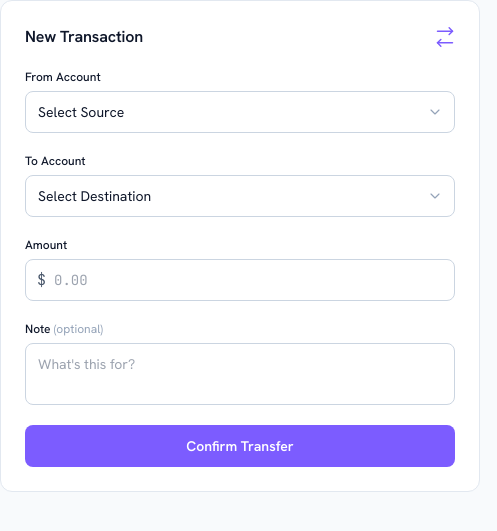
Test: TransferForm › shows an insufficient-balance error without submitting
Select "Everyday Checking (•••• 2233) — $1,000.00 available" in the dropdown with id "from" at (240, 112), box [25,91,455,133]
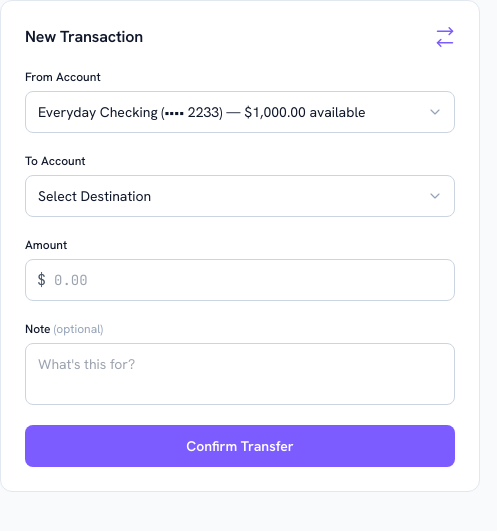
Select "Savings (•••• 5566)" in the dropdown labelled "To Account" at (240, 196), box [25,175,455,217]
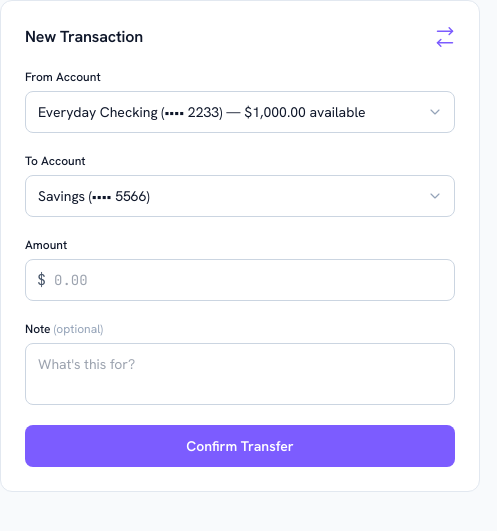
Type "1500" into the field with id "amount" at (240, 280), box [25,259,455,301]
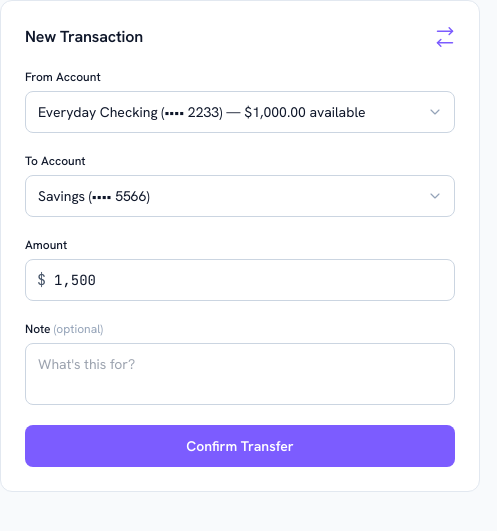
Submit the form
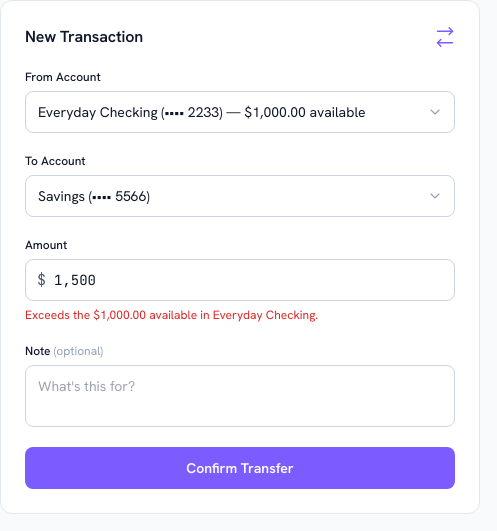
expect the form shows "Exceeds the $1,000.00 available in Everyday Checking.": met, box [25,307,318,323]
